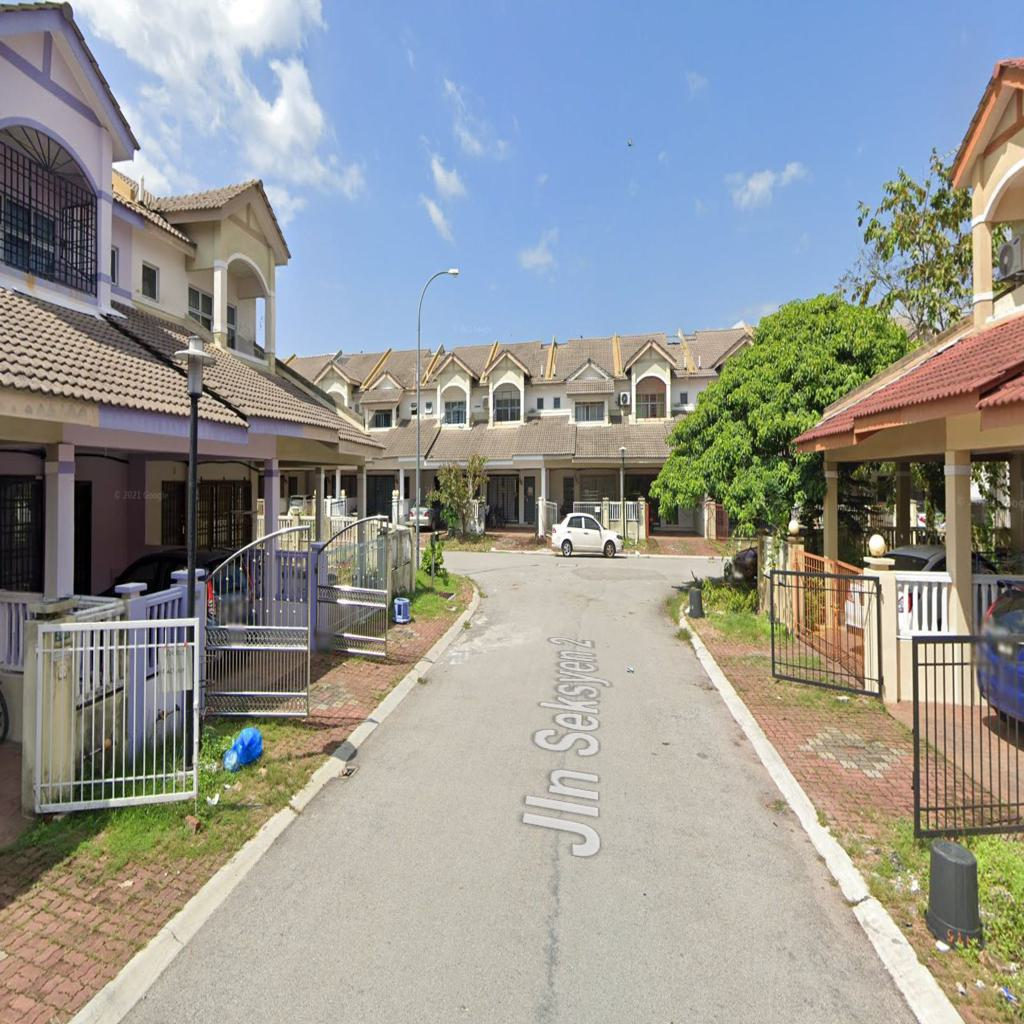Junction: (667, 532, 749, 618), (419, 516, 494, 599)
